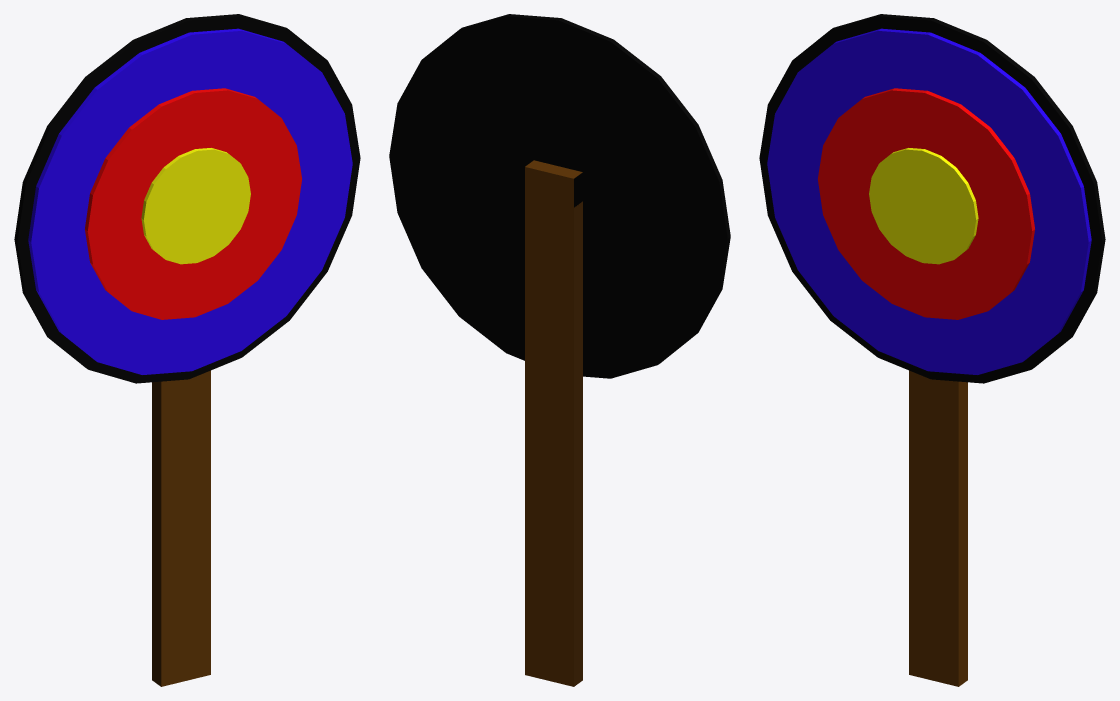
Rendered from base_target3.fbx.
The picture shows the model from 3 angles, left to right: view 1: azimuth 30°, elevation 25°; view 2: azimuth 150°, elevation 25°; view 3: azimuth 330°, elevation 25°; orthographic projection.
Visible parts, largest first — view 1: Circle.002, Circle.001, Plane, Circle.003, Circle; view 2: Circle.003, Plane; view 3: Circle.002, Circle.001, Plane, Circle.003, Circle.
Boxes of the visible parts, x1,y1,x2,y2 form: Circle.002: (28,28,352,374); Circle.001: (85,88,301,319); Plane: (152,370,210,686); Circle.003: (14,14,360,383); Circle: (141,148,250,264); Circle.003: (389,14,730,378); Plane: (525,160,582,686); Circle.002: (767,28,1091,374); Circle.001: (818,88,1034,319); Plane: (909,370,967,686); Circle.003: (759,14,1105,383); Circle: (869,148,978,264).
Size of the model in its own units: 640 by 1181 by 66.64.
5 materials, 5 textured.
